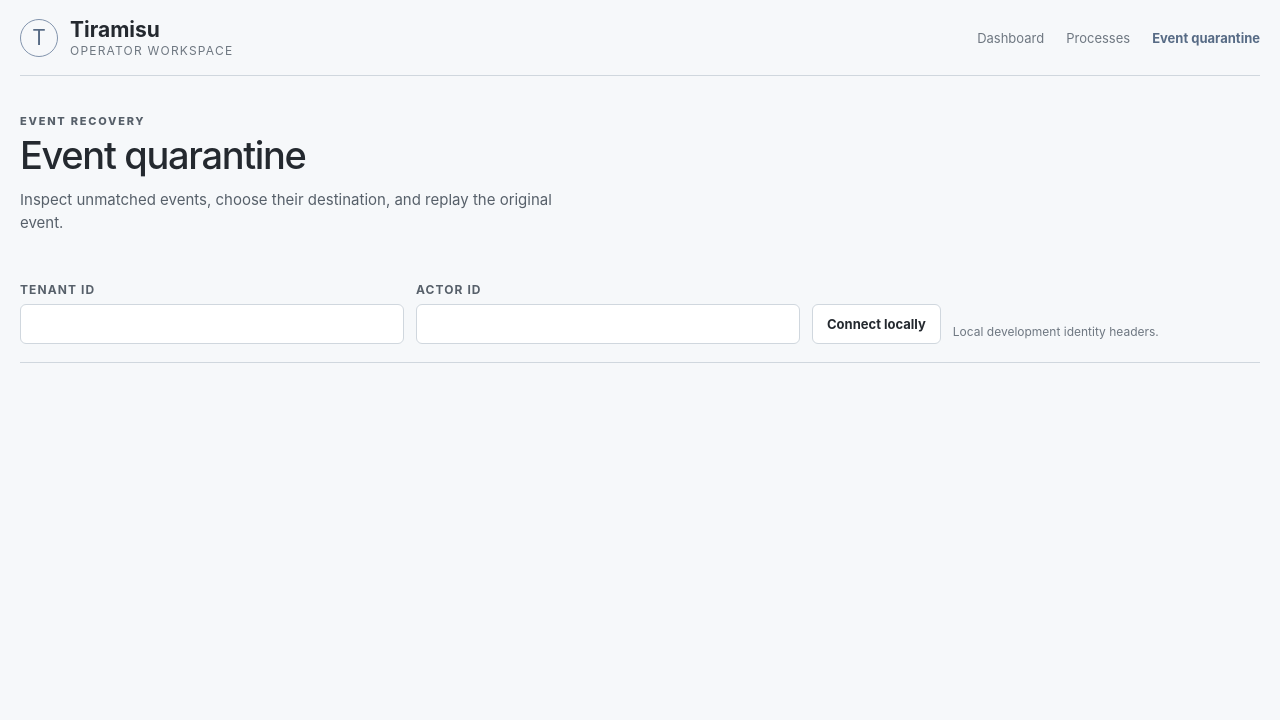
Scenario: event quarantine › allows read-only inspection without a resolution form
Type "test-tenant" into the field with test id "tenant-id" at (212, 324), box [20,304,404,344]
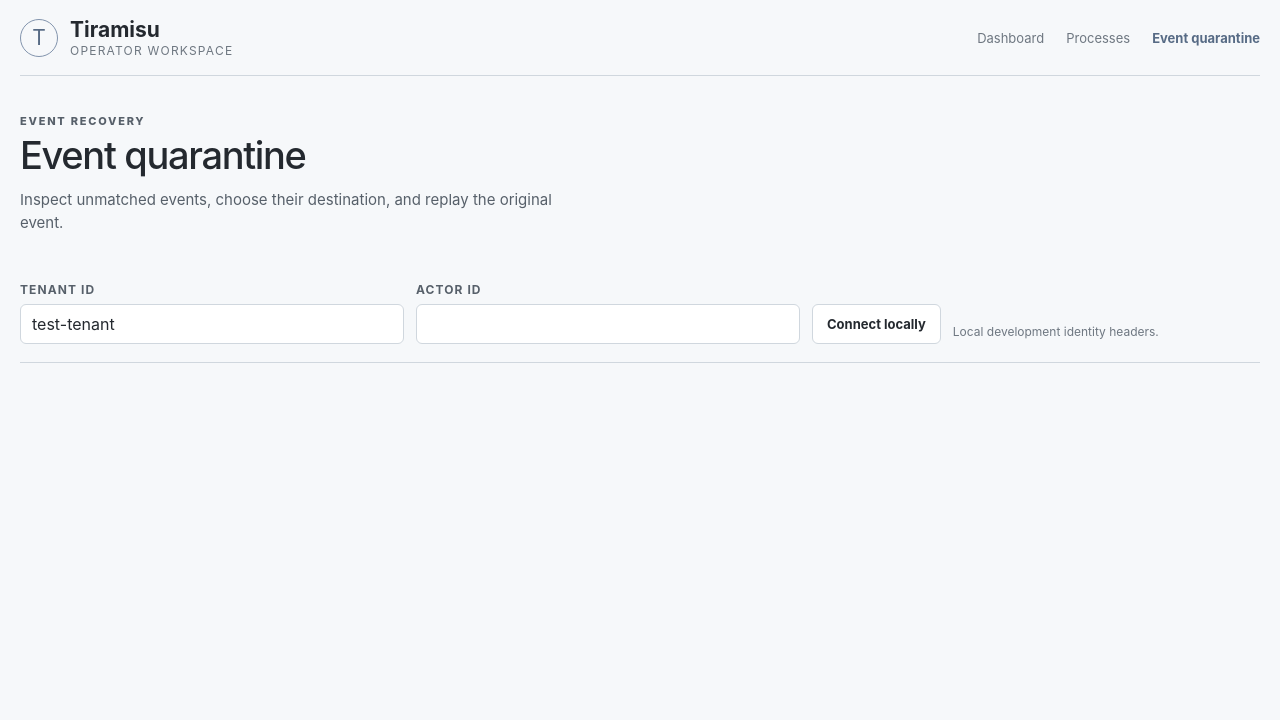
Type "test-actor" into the field with test id "actor-id" at (608, 324), box [416,304,800,344]
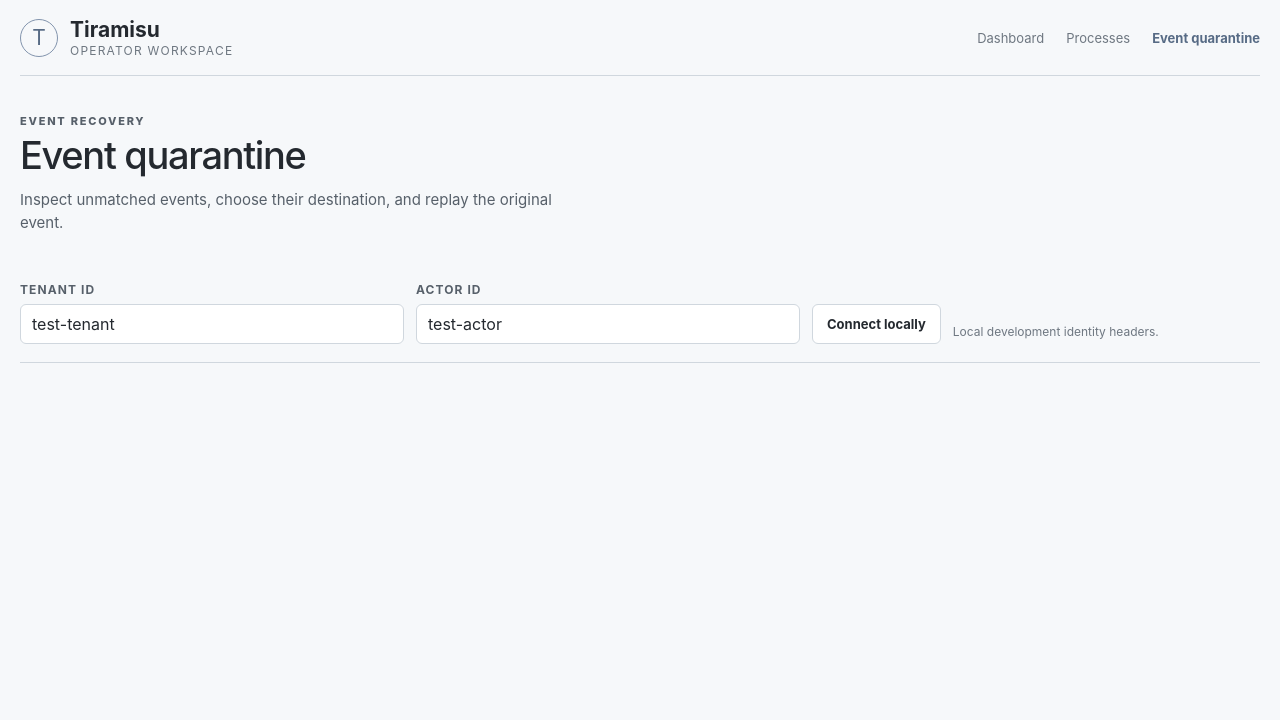
Submit the form, box [20,264,1260,363]
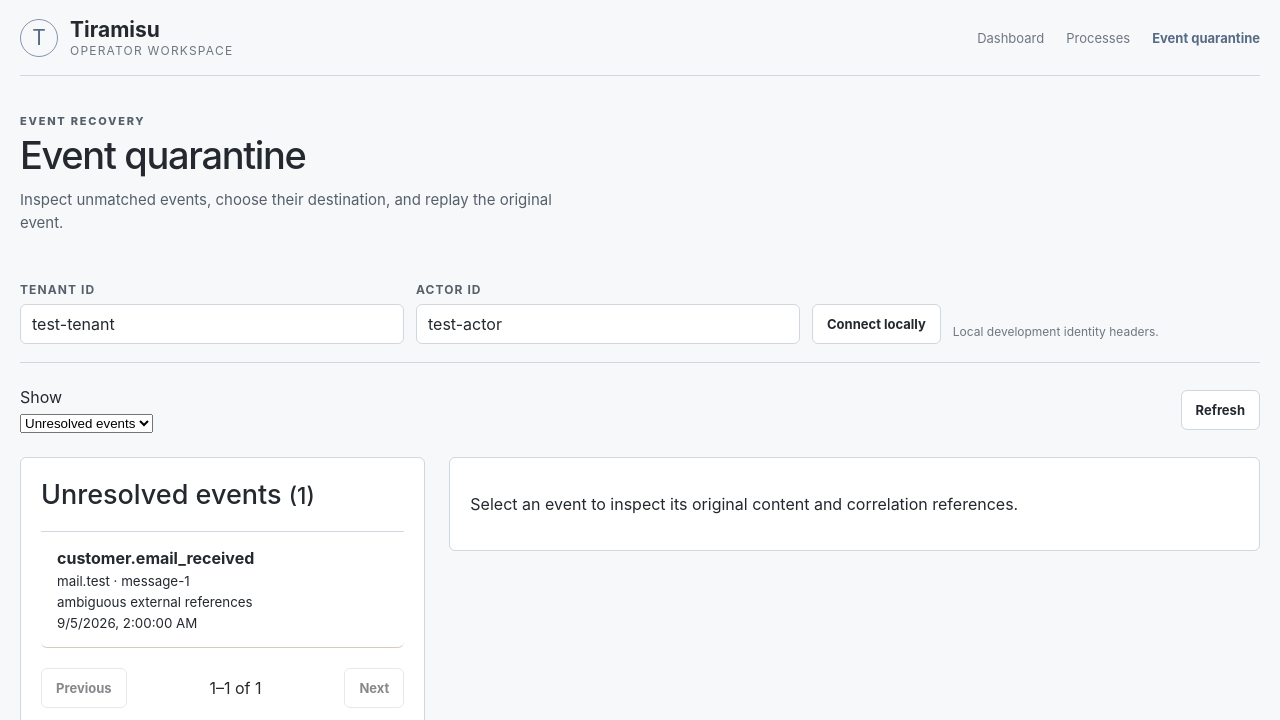
Click the button that starts with "customer.email_received" at (156, 558), box [41,532,404,648]
(page scrolled)
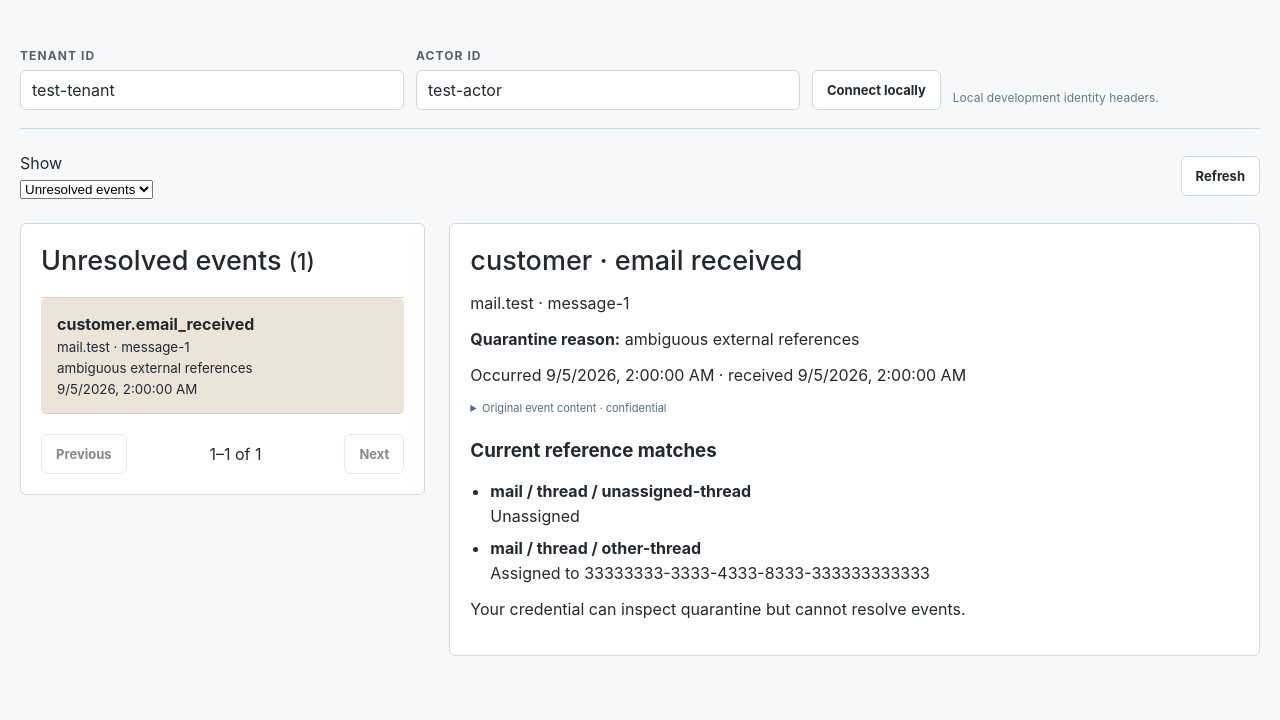
Expected: the text with test id "read-only" shows "cannot resolve events", [470,599,966,619]
